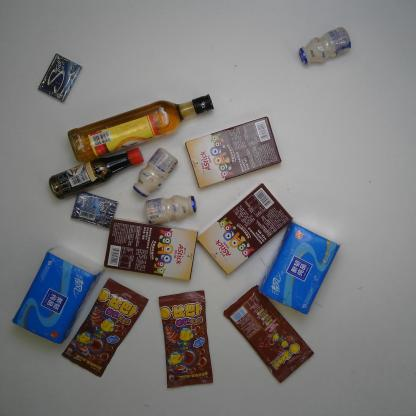Candy: (224, 284, 314, 382), (61, 278, 149, 378), (158, 290, 214, 388)
Dessert: (197, 182, 292, 276), (185, 116, 281, 188), (104, 217, 198, 281)
Gum: (37, 54, 82, 101), (71, 192, 118, 228)
Milk: (133, 148, 177, 198), (298, 26, 351, 64), (144, 195, 198, 225)
Seasoner: (68, 93, 214, 163), (48, 147, 145, 200)
Tissue: (11, 246, 104, 342), (258, 221, 341, 315)
